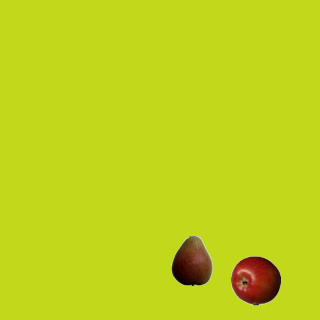Apple Braeburn: (230, 255, 280, 305)
Pear Forelle: (166, 235, 216, 285)
